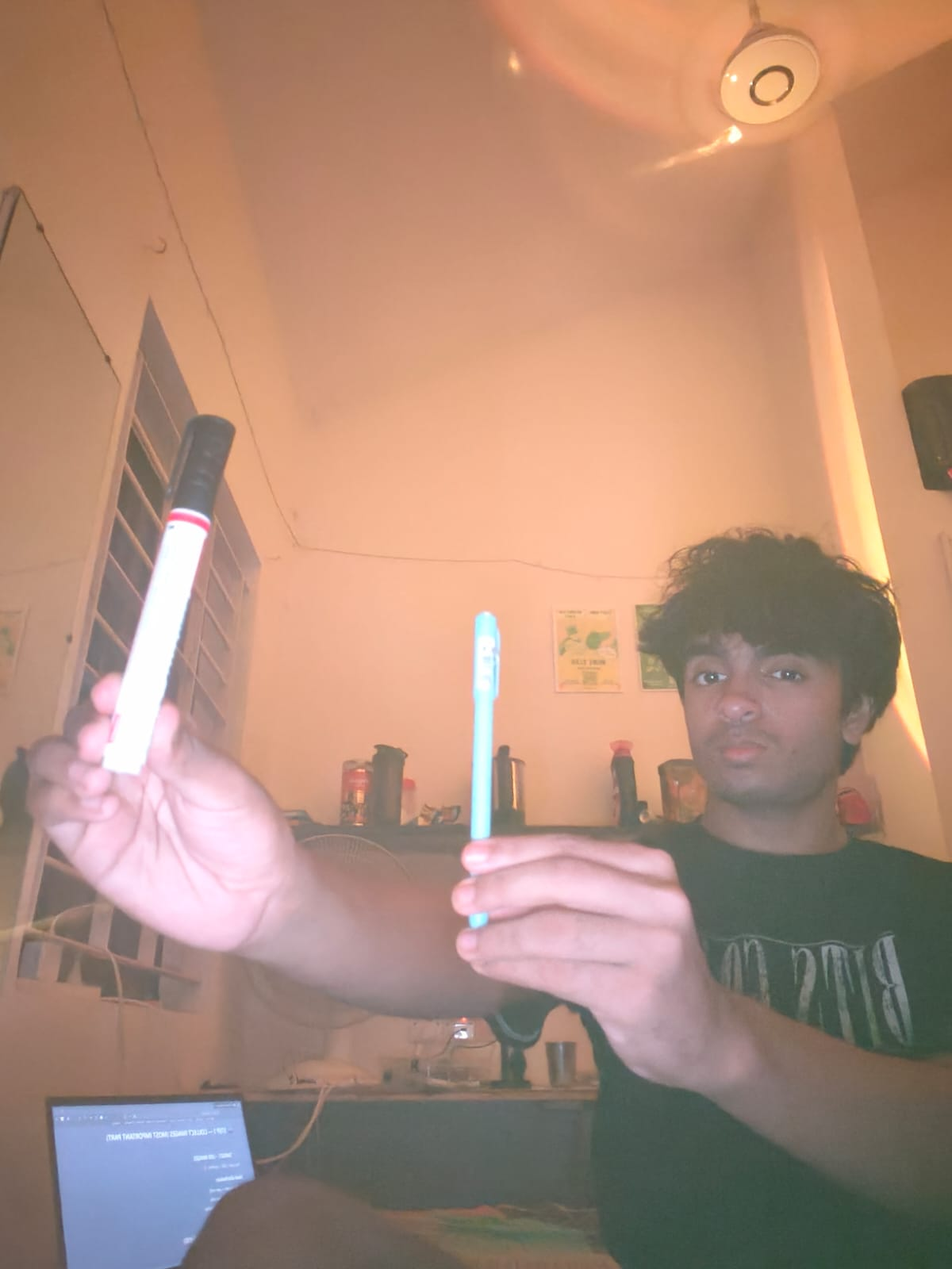case: (105, 401, 241, 776)
pen: (465, 604, 498, 928)
